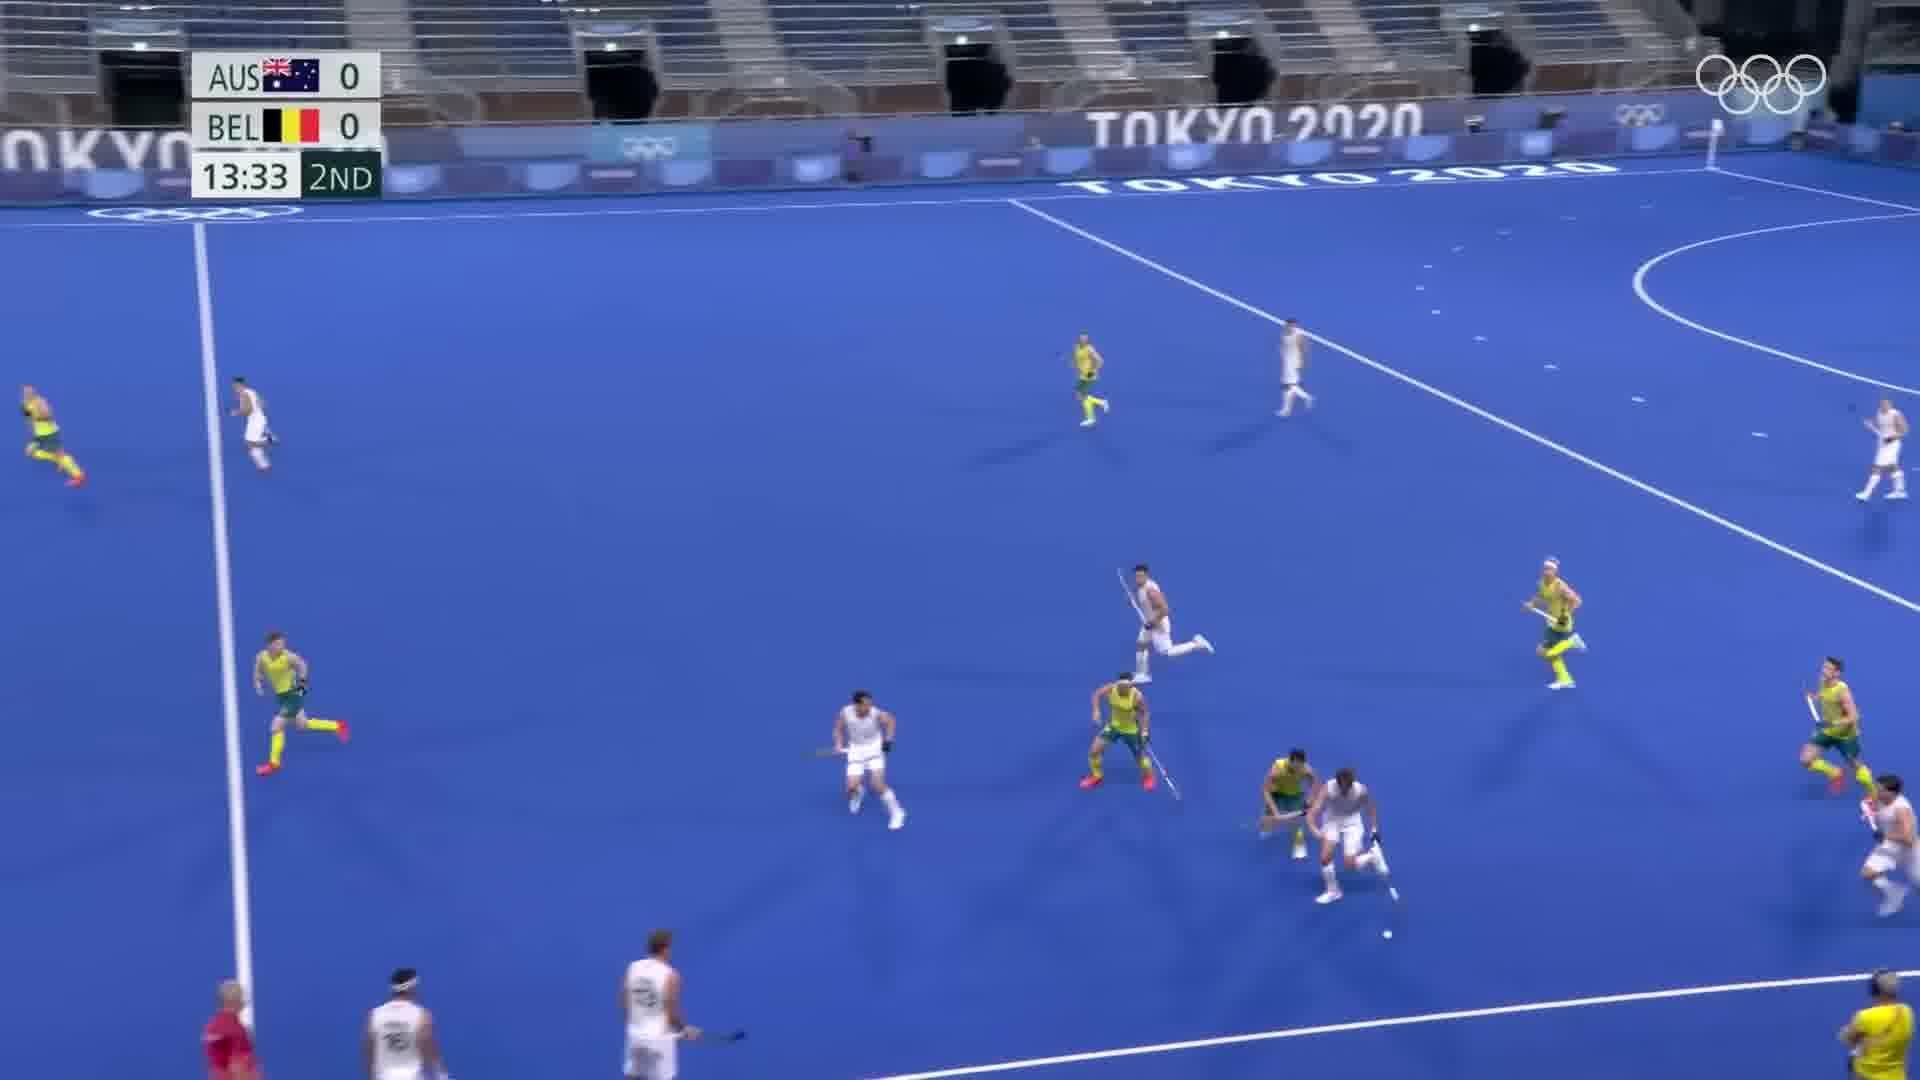ball: (1379, 916, 1402, 945)
